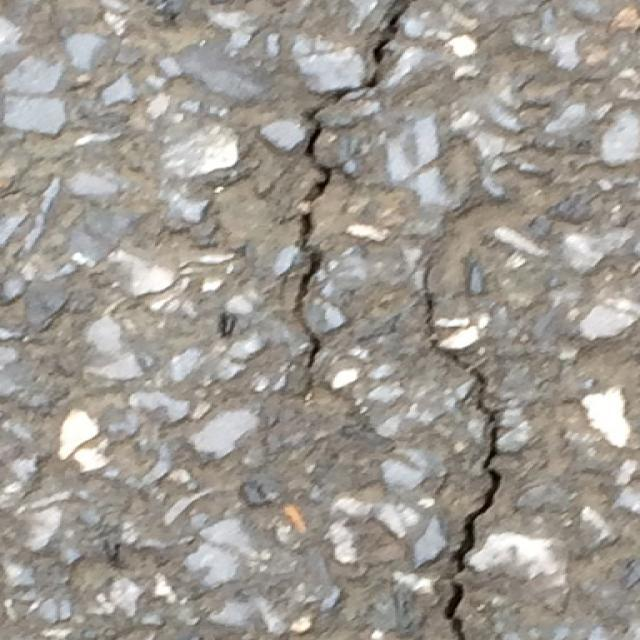Longitudinal: (288, 0, 408, 429), (416, 250, 498, 640)
